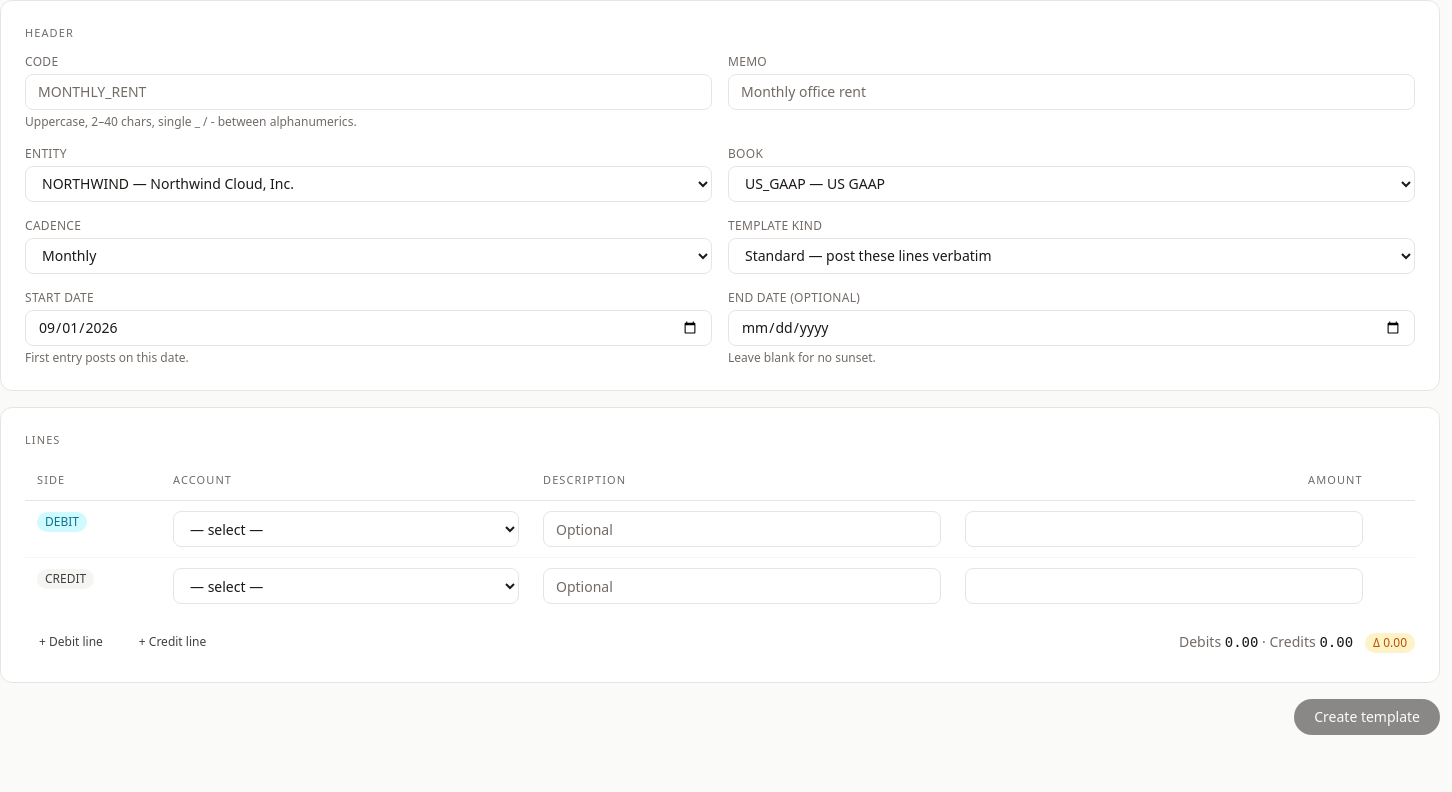
Test case: new recurring template — ALLOCATION mode › reports allocation progress in percent, not debits and credits
Select "Allocation — split a source account by %" in the dropdown labelled "Template kind" at (1072, 256), box left=728, top=238, right=1415, bottom=274
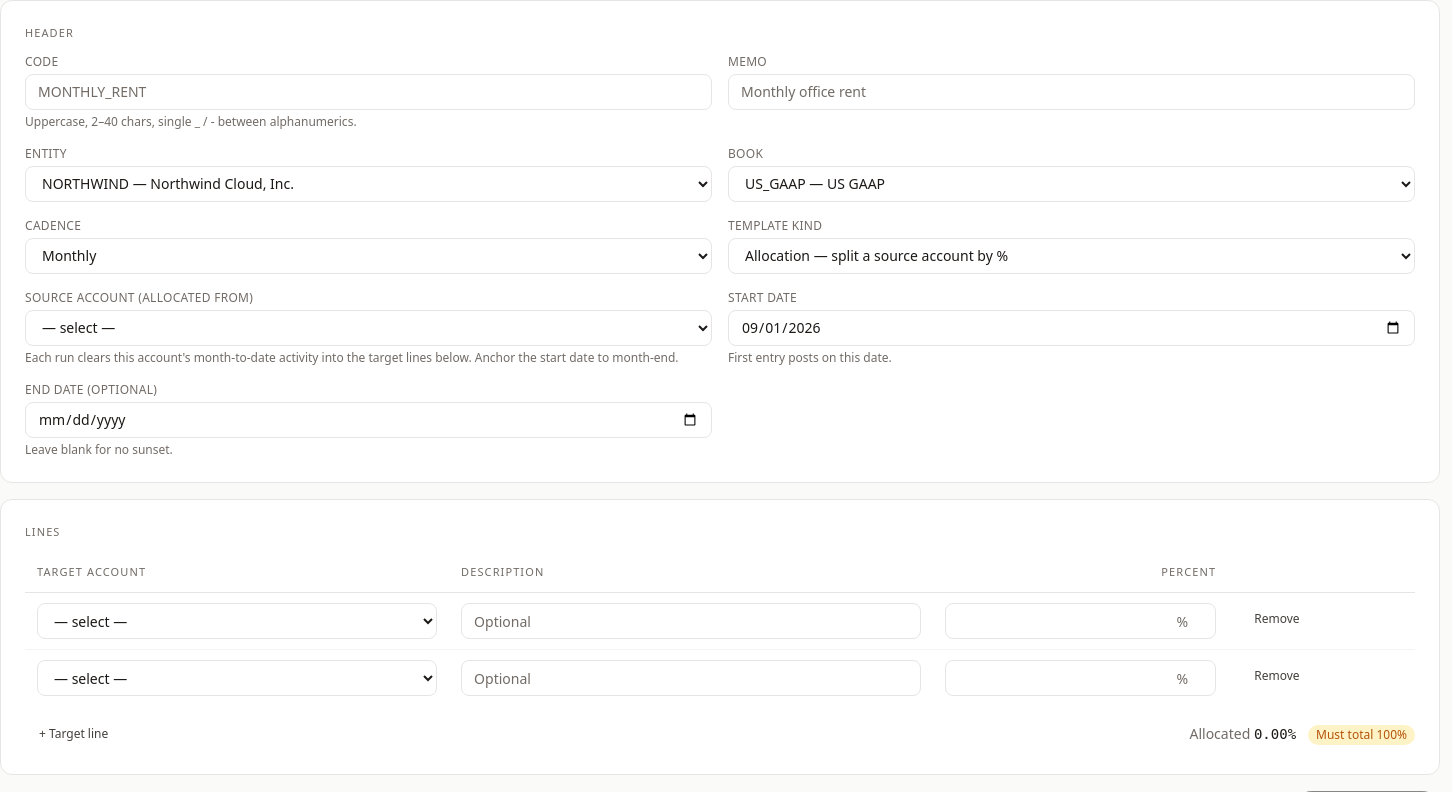
Select "6000 — Overhead pool" in the dropdown labelled "Source account (allocated FROM)" at (368, 328), box left=25, top=310, right=712, bottom=346
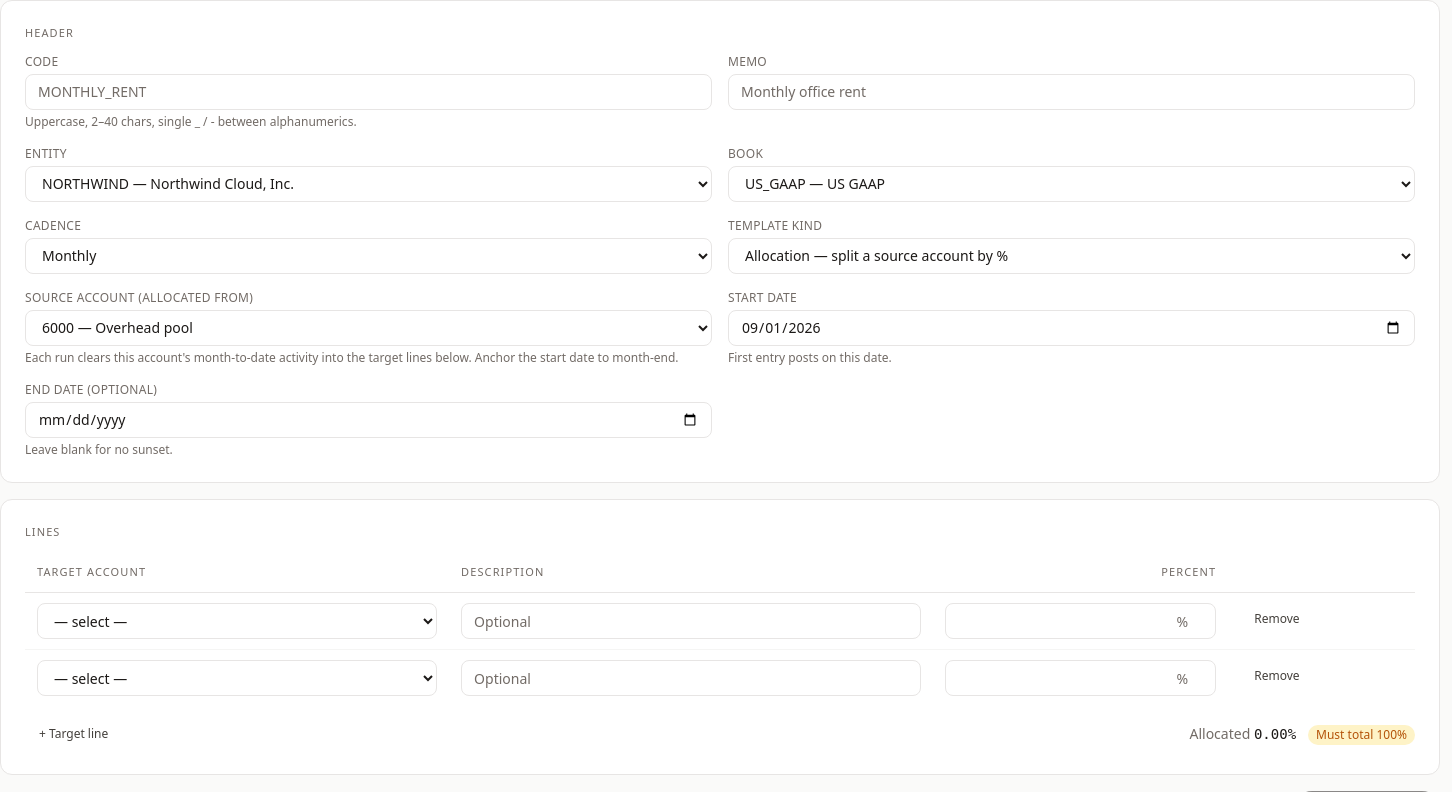
Select "7000 — Dept 1" in the 6th dropdown at (237, 621), box left=37, top=603, right=437, bottom=639
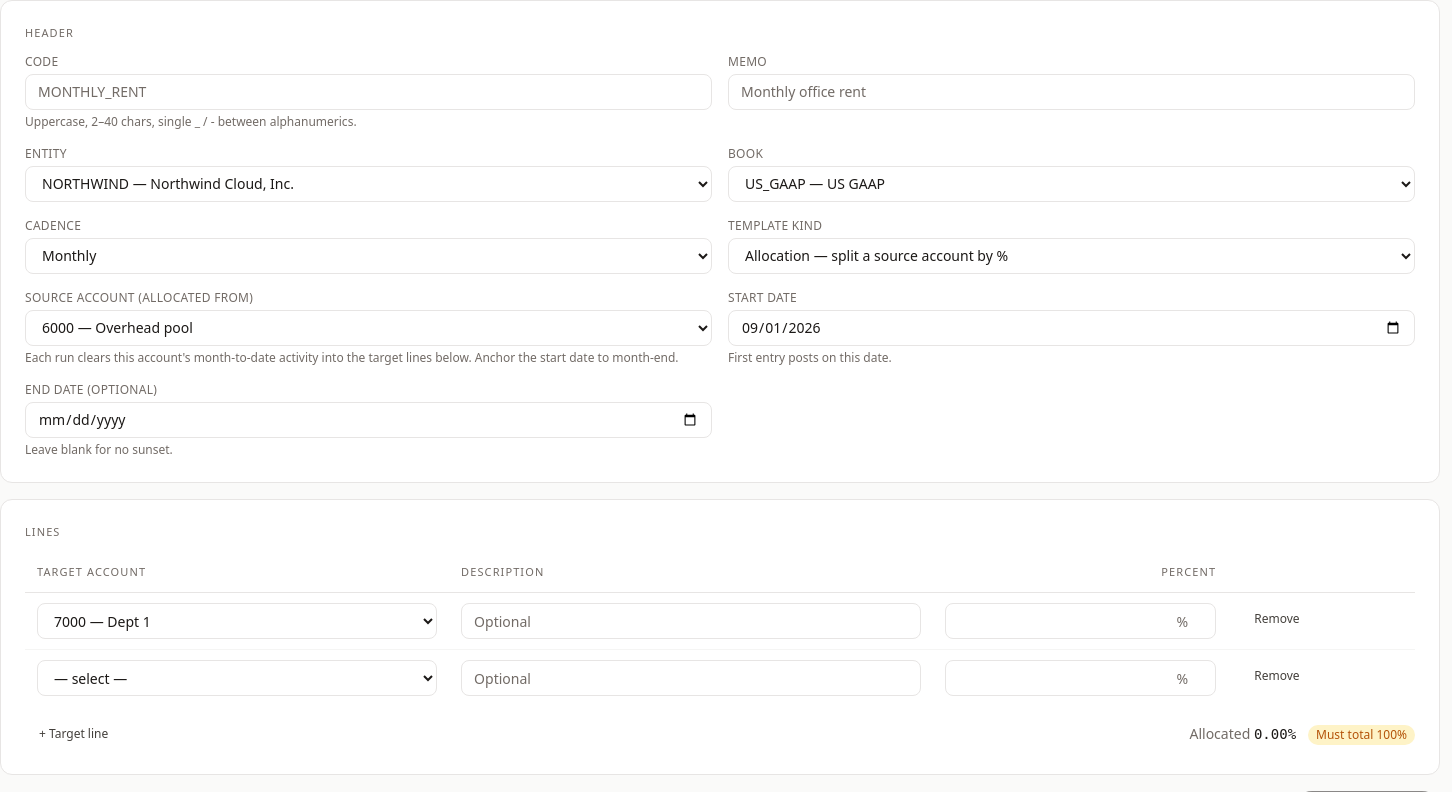
Type "60" into the 1st number field with placeholder "%" at (1080, 621), box left=945, top=603, right=1216, bottom=639
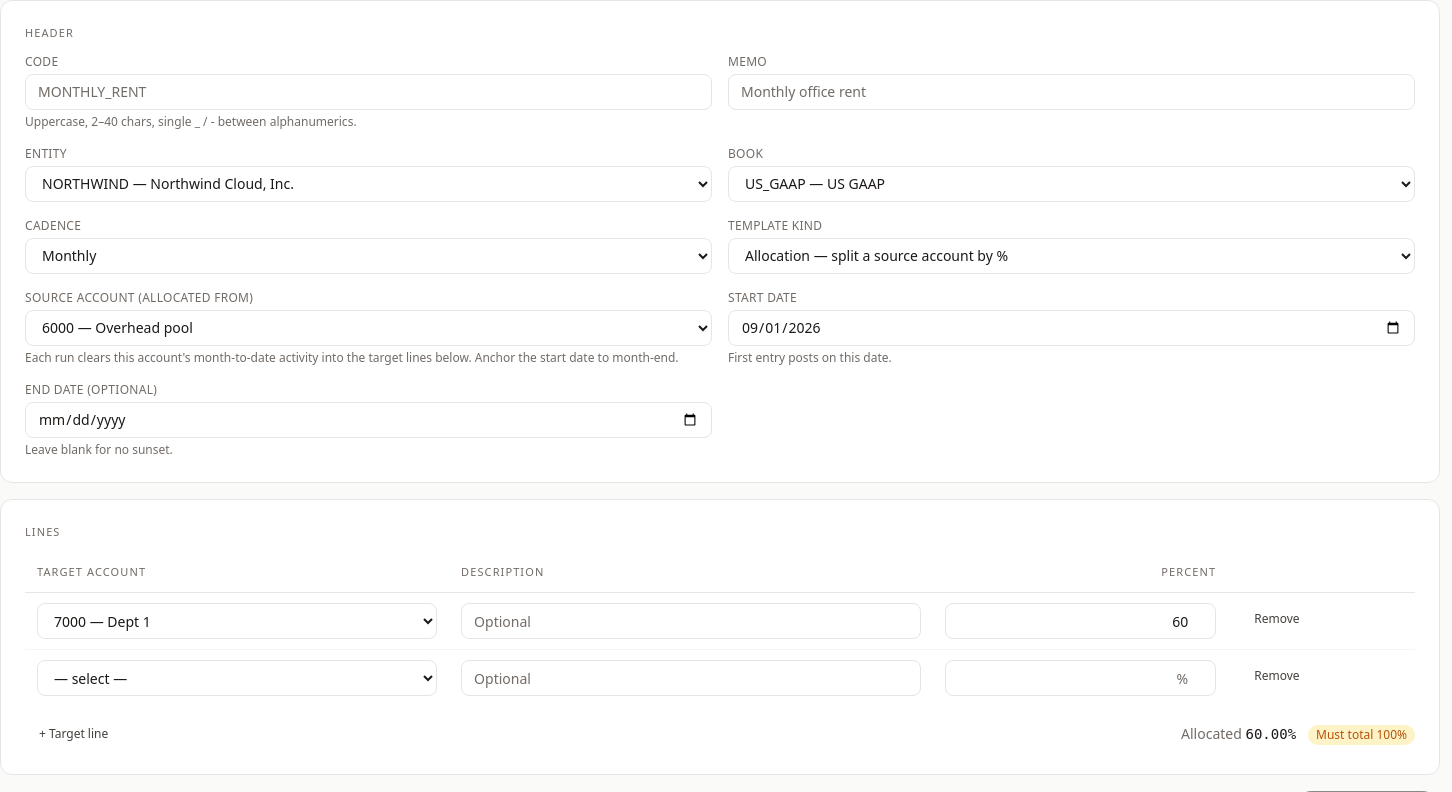
Select "8000 — Dept 2" in the 7th dropdown at (237, 678), box left=37, top=660, right=437, bottom=696
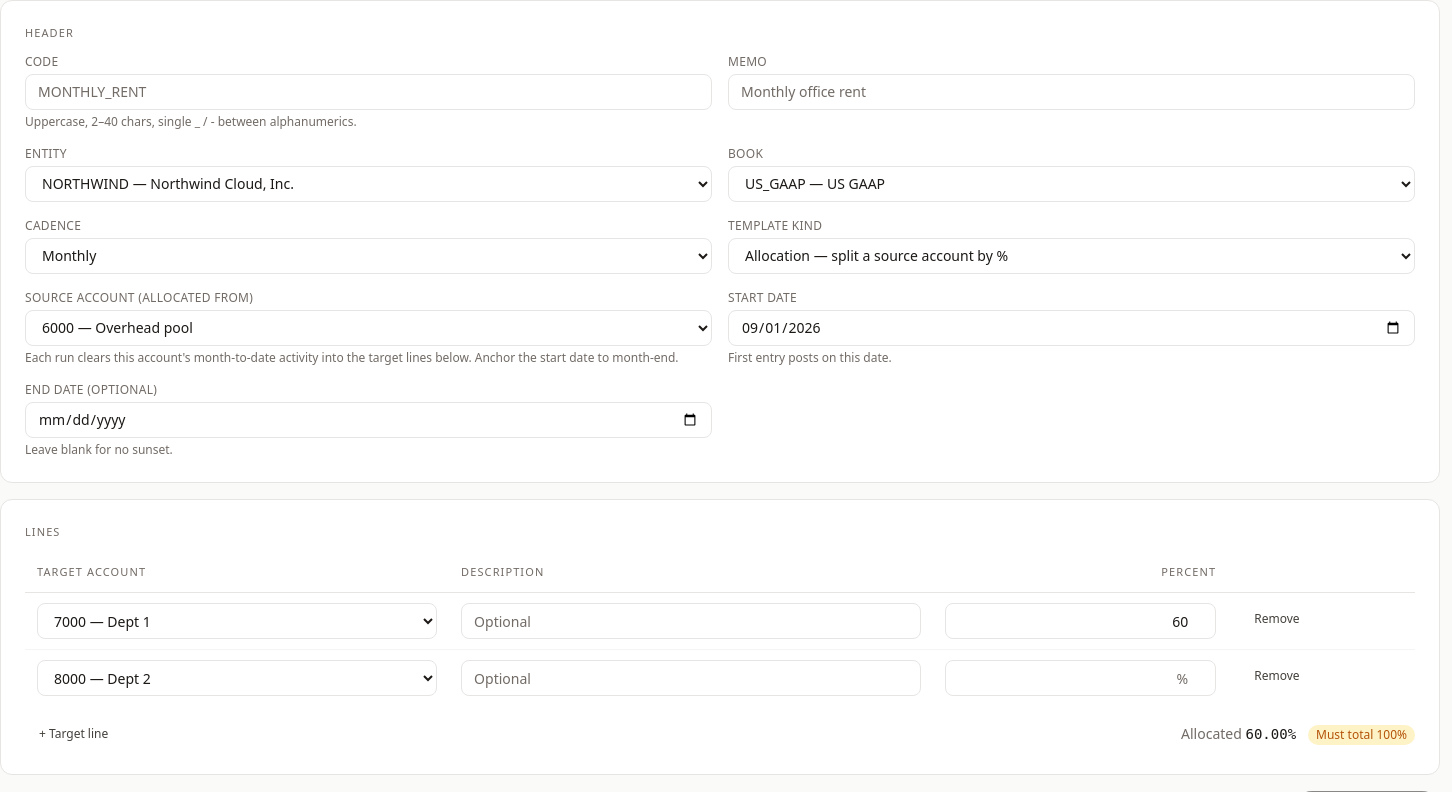
Type "40" into the number field with placeholder "%" at (1080, 678), box left=945, top=660, right=1216, bottom=696
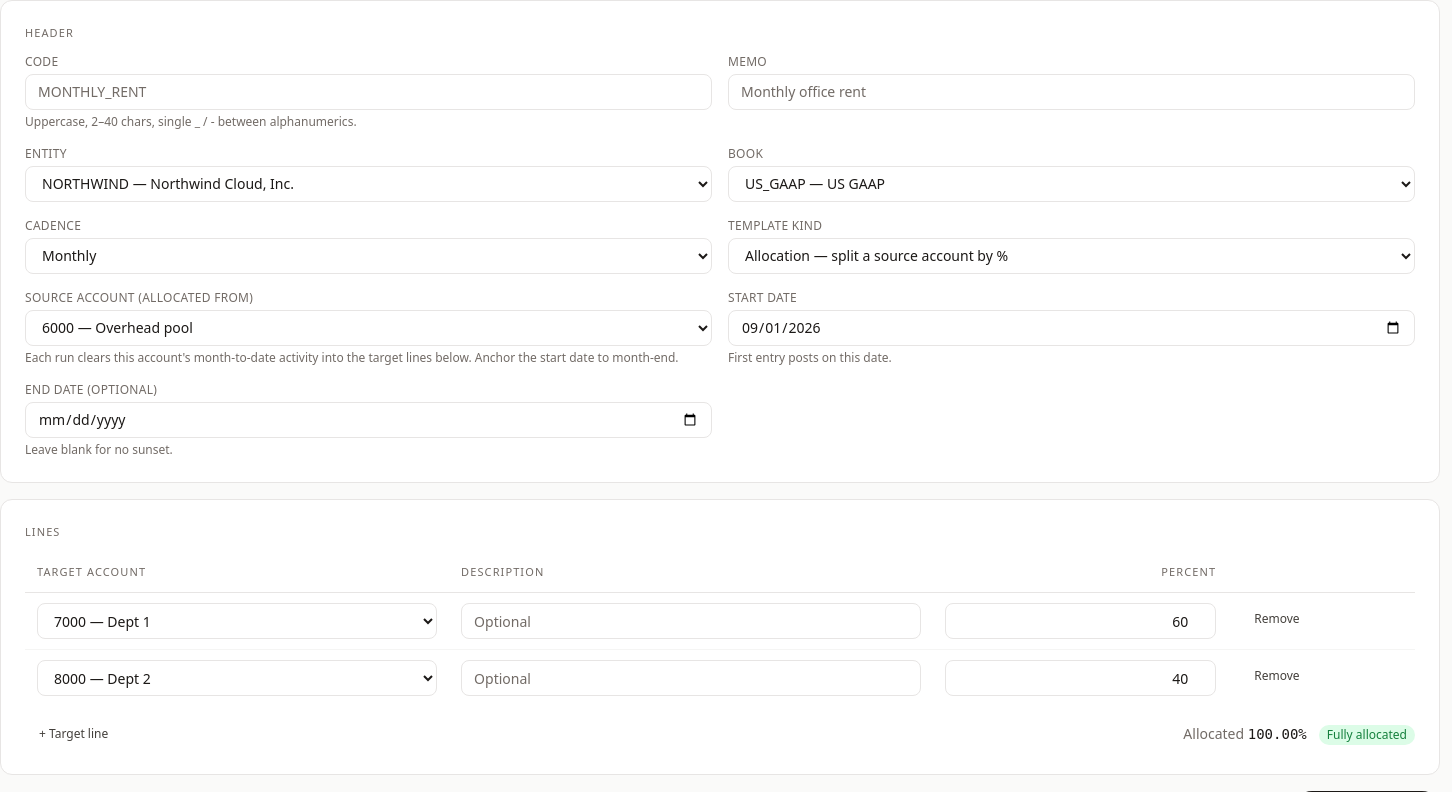
Check: the text "Allocated" is shown, box left=1183, top=724, right=1248, bottom=742
Check: the text "100.00%" is shown, box left=1248, top=726, right=1307, bottom=742
Check: the text "Fully allocated" is shown, box left=1319, top=724, right=1415, bottom=744
